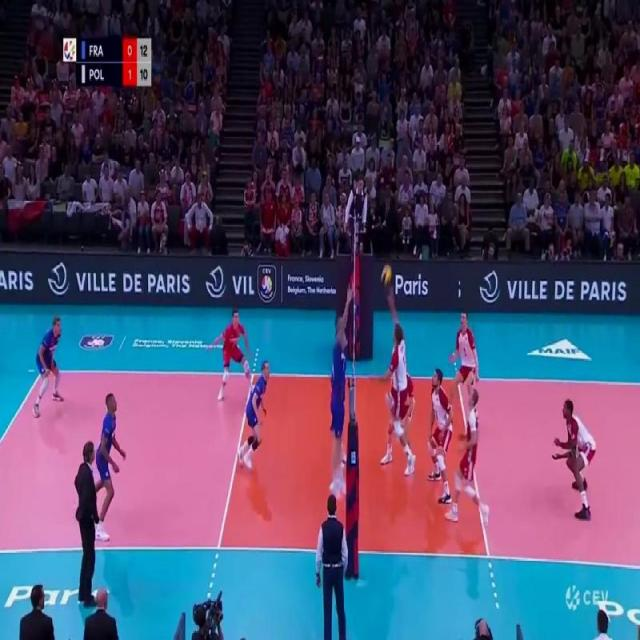volleyball: (381, 262, 392, 284)
